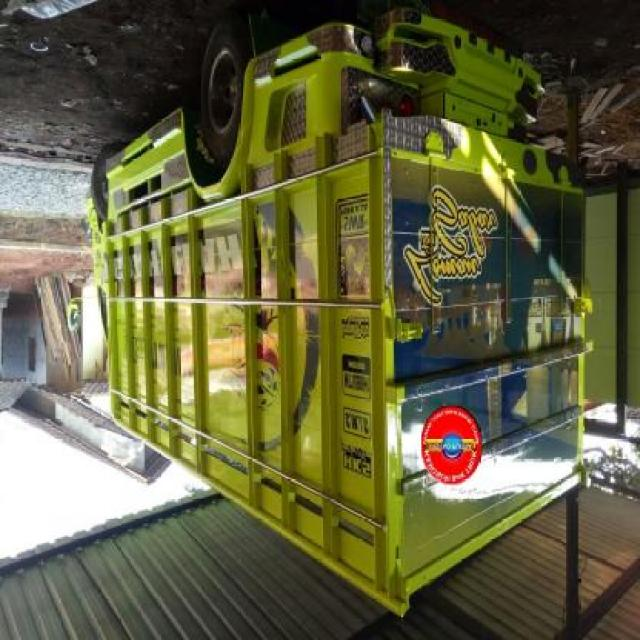truck: (67, 18, 595, 621)
